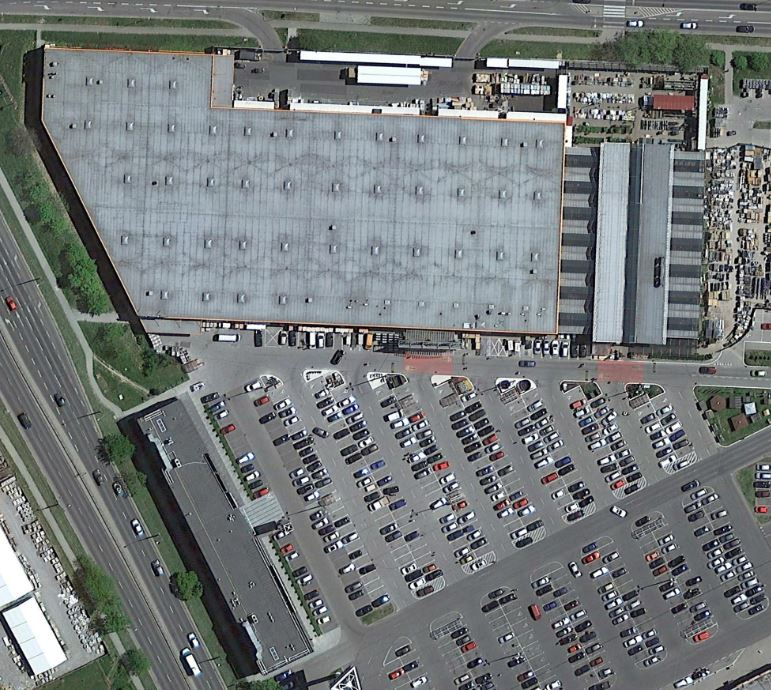block of flats: (116, 389, 319, 680)
shopping_center: (28, 34, 722, 372)
